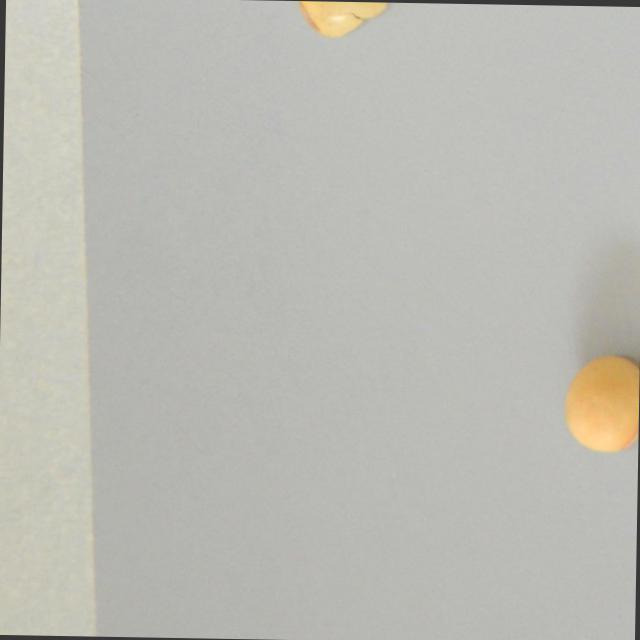cuerpos_extranos: (558, 348, 640, 449), (298, 0, 399, 32)
